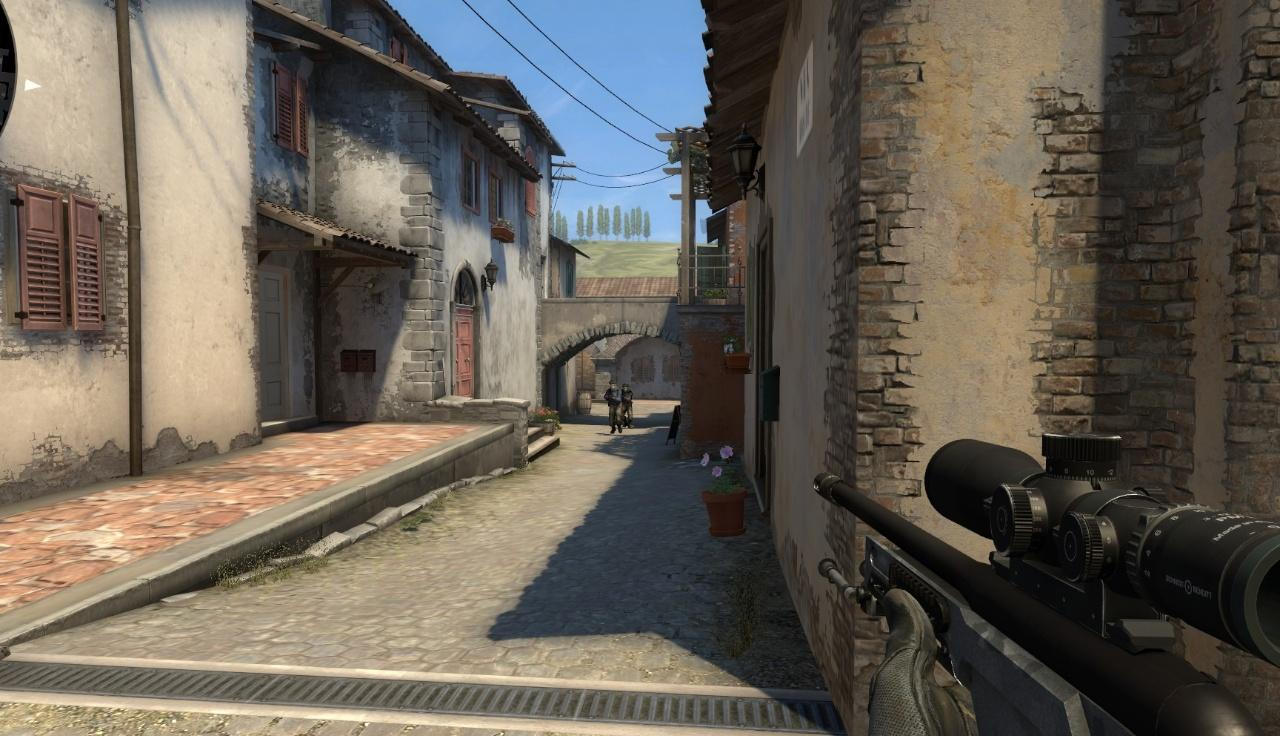sniper: (819, 439, 1280, 736)
tt: (604, 380, 622, 433), (621, 383, 634, 430)
tthead: (609, 381, 616, 390), (622, 384, 629, 392)
